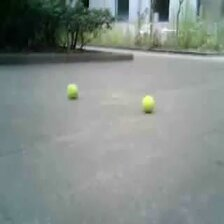tennis: (142, 94, 155, 112), (66, 84, 78, 97)
